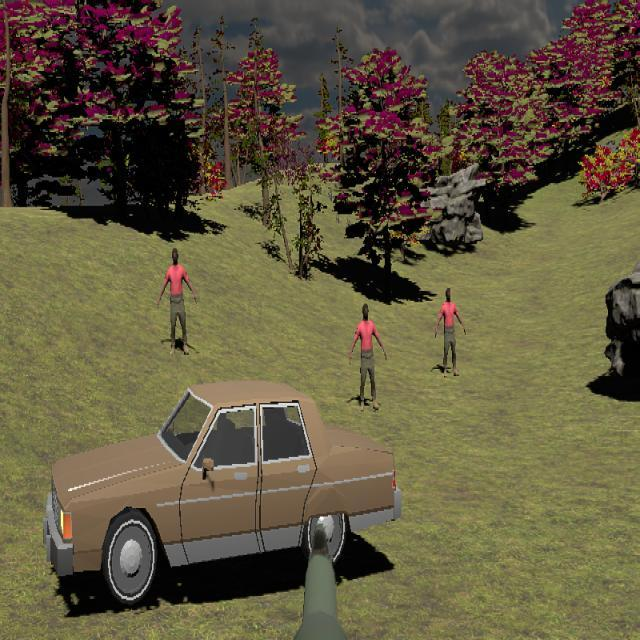Human: (157, 248, 197, 354), (349, 303, 387, 412), (434, 288, 466, 377)
car: (46, 379, 409, 606)
